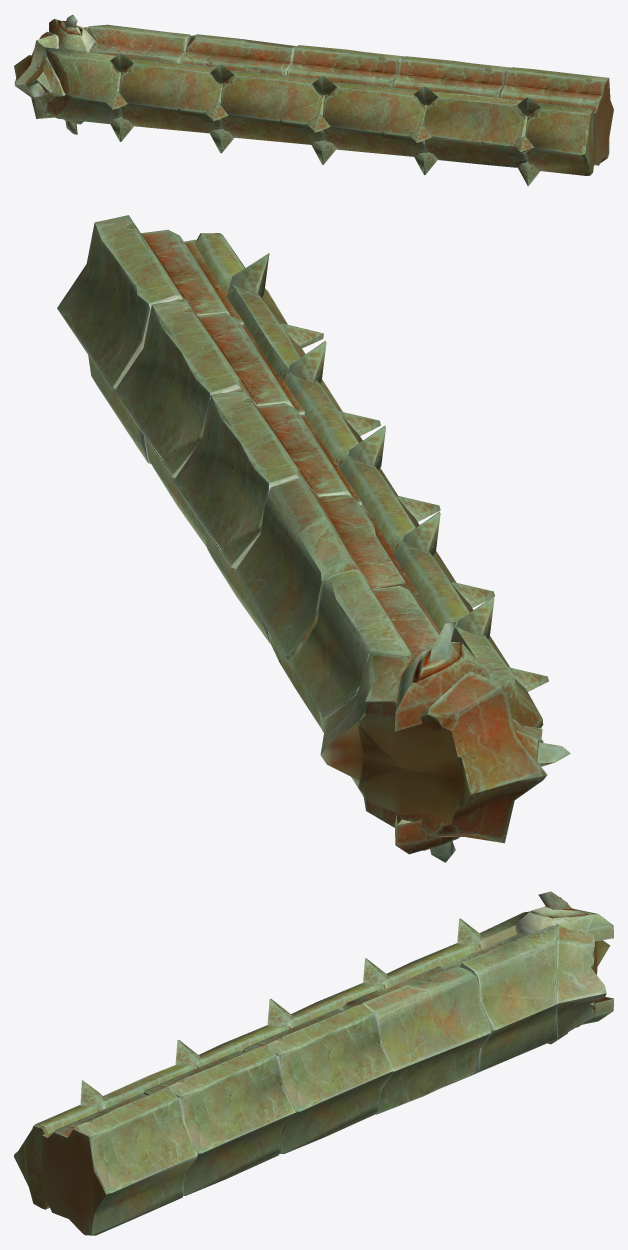
The model's file is Ruins_Collumn_Buttress_A.fbx.
3 renders of one model, top to bottom at view 1: azimuth 30°, elevation 25°; view 2: azimuth 150°, elevation 25°; view 3: azimuth 270°, elevation 25°, orthographic. The views are drawn at different scales.
Parts seen in each view (by area): view 1: Ruins_Collumn_Buttress_A; view 2: Ruins_Collumn_Buttress_A; view 3: Ruins_Collumn_Buttress_A.
Boxes of the visible parts, x1,y1,x2,y2 form: Ruins_Collumn_Buttress_A: (14, 14, 613, 186); Ruins_Collumn_Buttress_A: (57, 215, 570, 862); Ruins_Collumn_Buttress_A: (14, 891, 613, 1235).
Bounding box in the file's own units: 2355 × 639 × 2267.
